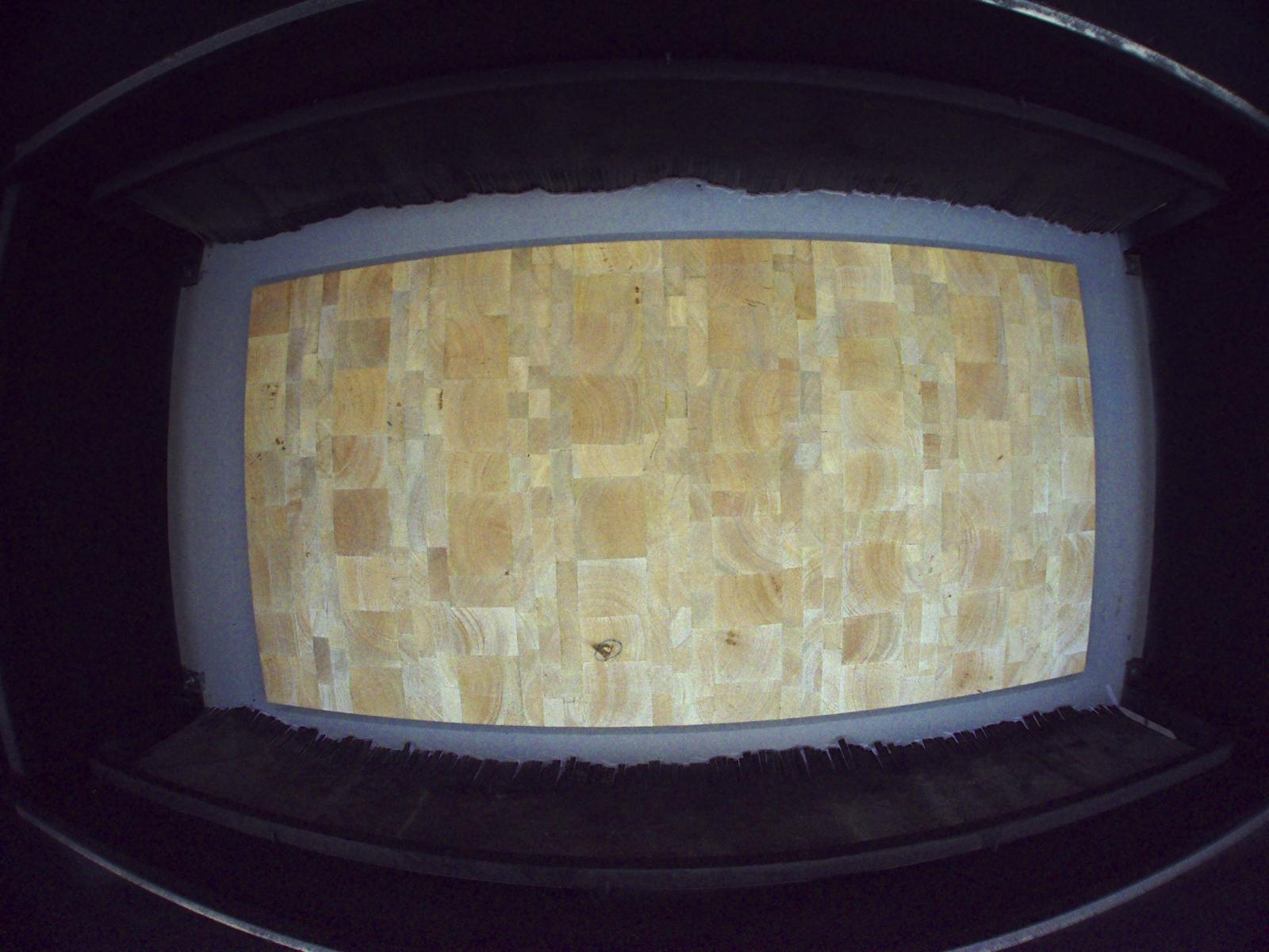nudillo: (589, 639, 618, 662)
